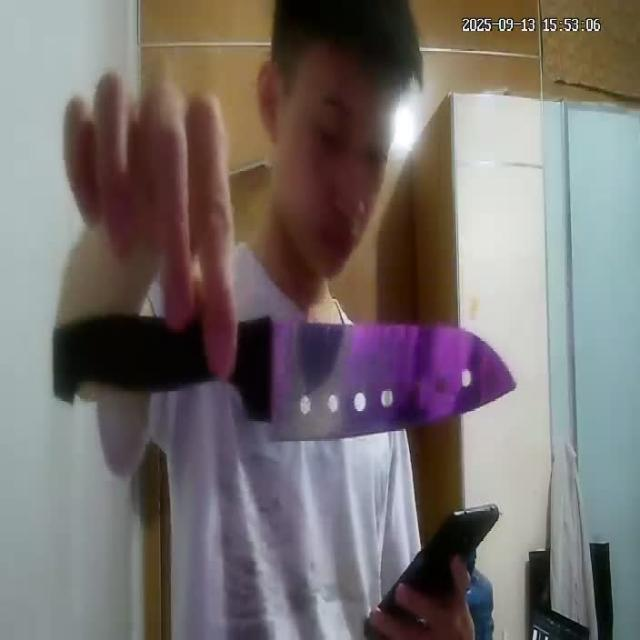senjata_tajam: (49, 314, 519, 440)
